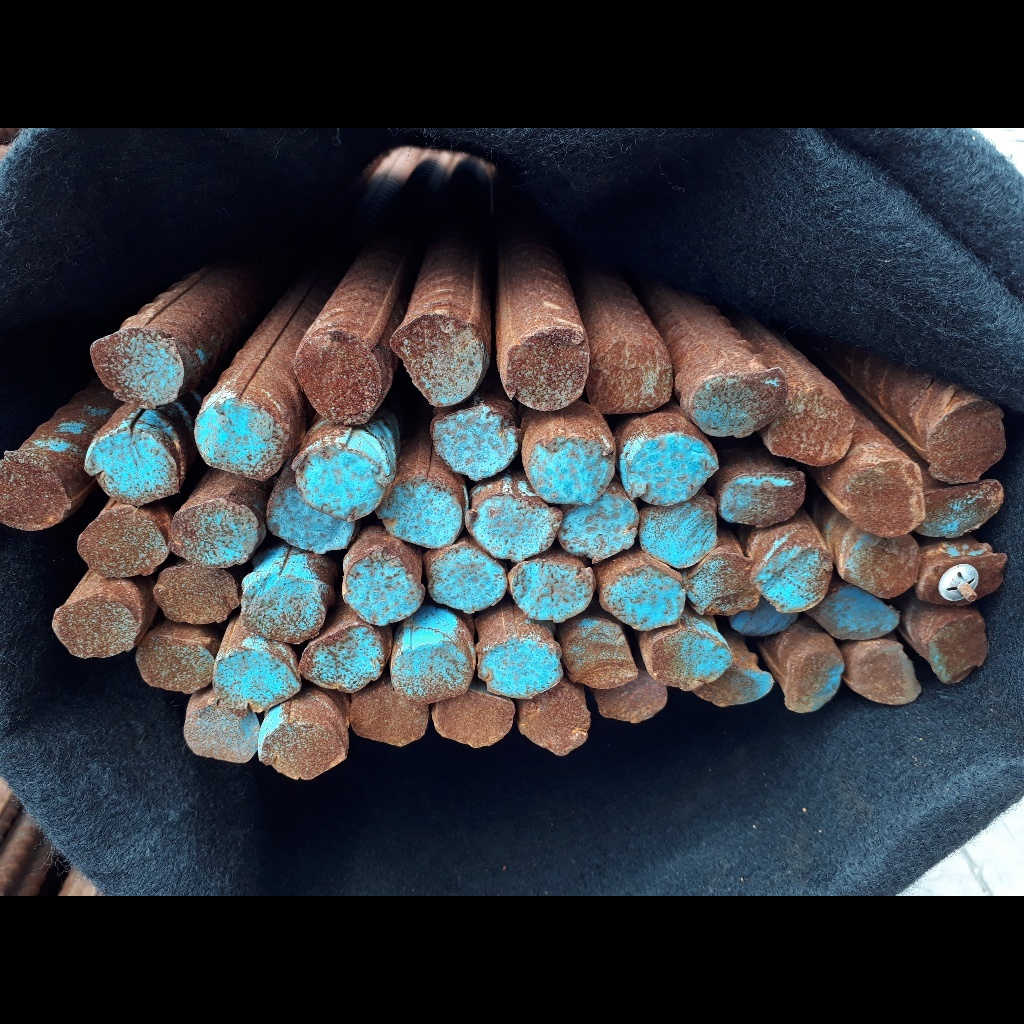dipstick: (390, 272, 497, 412), (290, 337, 380, 422), (87, 332, 186, 407), (254, 702, 349, 779), (502, 328, 590, 409), (171, 701, 266, 774), (690, 365, 787, 436), (924, 401, 1007, 483), (86, 428, 178, 501), (75, 509, 172, 578), (621, 432, 716, 500), (587, 339, 674, 413), (433, 406, 516, 482), (267, 486, 355, 556), (241, 572, 327, 643), (844, 462, 927, 535), (508, 556, 601, 620), (296, 450, 384, 517), (167, 502, 260, 565), (196, 403, 275, 477), (533, 436, 615, 506), (342, 555, 423, 624), (558, 491, 641, 557), (767, 396, 847, 464), (52, 595, 138, 658), (753, 544, 829, 615), (378, 482, 460, 547), (152, 563, 240, 623), (915, 480, 1006, 538), (639, 500, 715, 569), (470, 496, 560, 554), (299, 629, 383, 691), (517, 687, 592, 755), (392, 643, 475, 704), (650, 631, 740, 687), (476, 635, 560, 695), (134, 633, 215, 695), (4, 457, 69, 534), (430, 691, 517, 748), (431, 549, 508, 612), (348, 688, 430, 746), (682, 555, 761, 615), (214, 650, 298, 706), (604, 569, 685, 627), (920, 552, 1004, 606), (849, 534, 922, 596), (563, 617, 639, 676), (847, 646, 921, 706), (818, 585, 900, 638), (783, 650, 846, 713), (347, 563, 402, 635), (594, 676, 669, 724), (696, 663, 772, 709), (934, 615, 987, 680)
